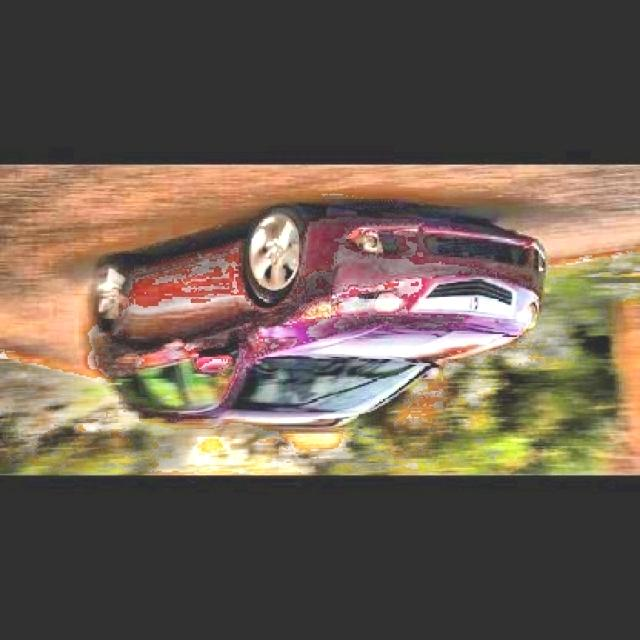maroon: (9, 210, 542, 456)
